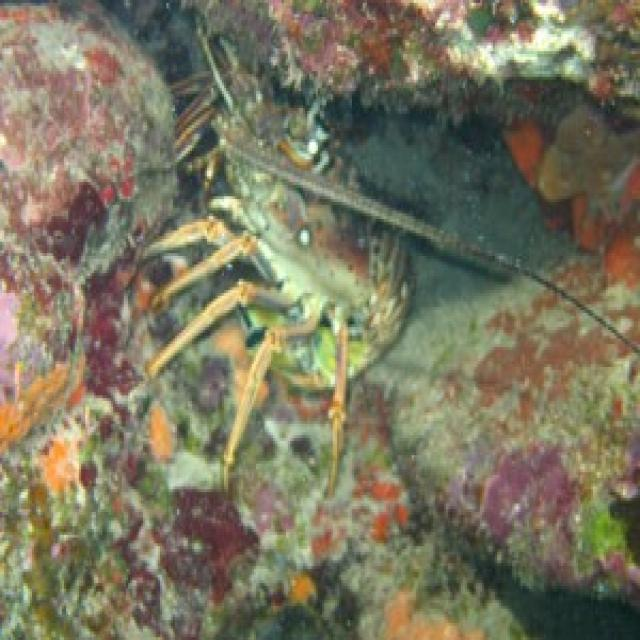lobsters: (79, 0, 482, 501)
